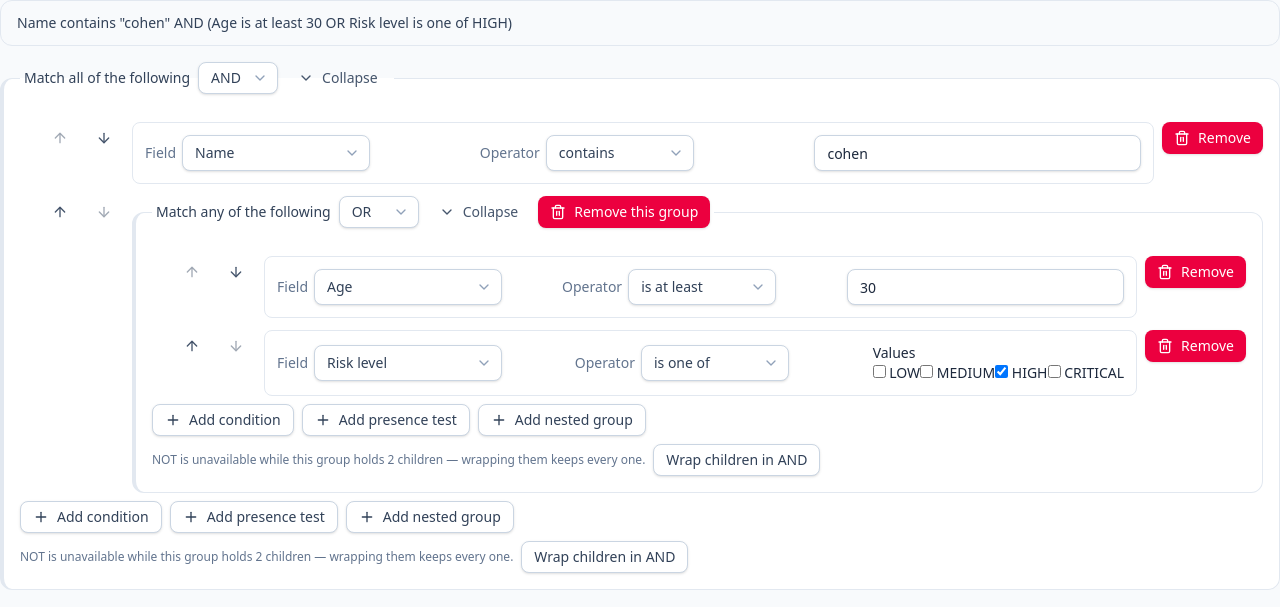
Test: RuleConditionEditor (US1) › states how many nodes a collapsed group conceals (FR-007)
Click the button "Collapse" next to "Match all of the following" at point(338, 78), box [286, 62, 390, 94]
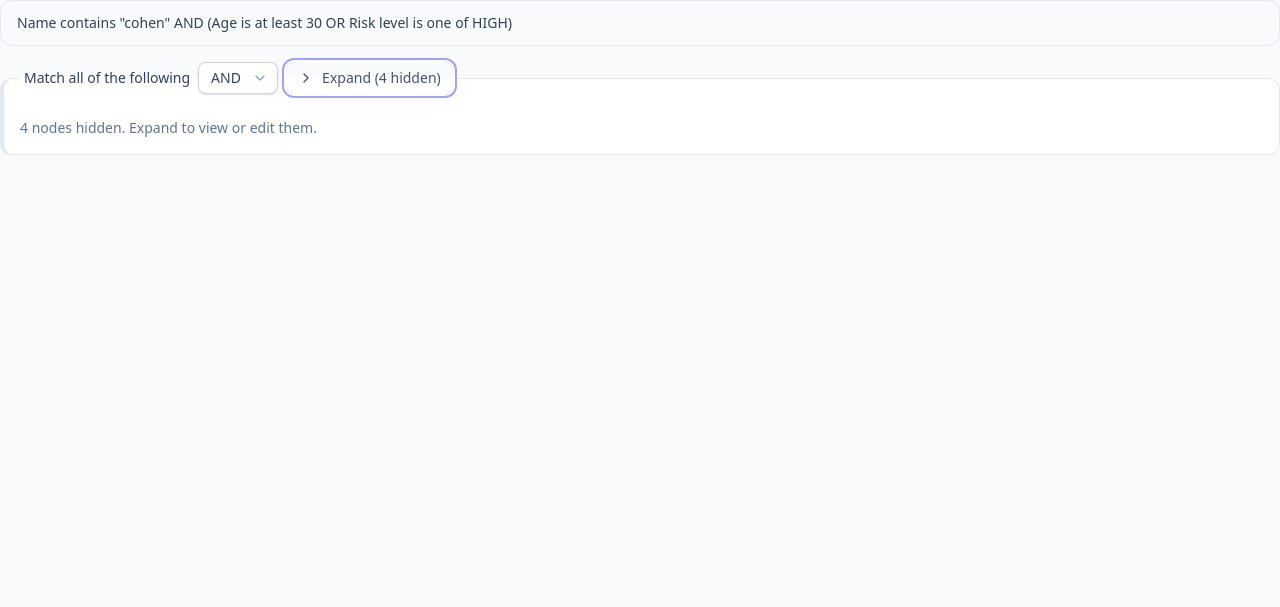
Expected: the text "4 nodes hidden. Expand to view or edit them." is shown, [20, 118, 317, 137]
Expected: the button "Expand (4 hidden)" is shown, [286, 62, 453, 94]
